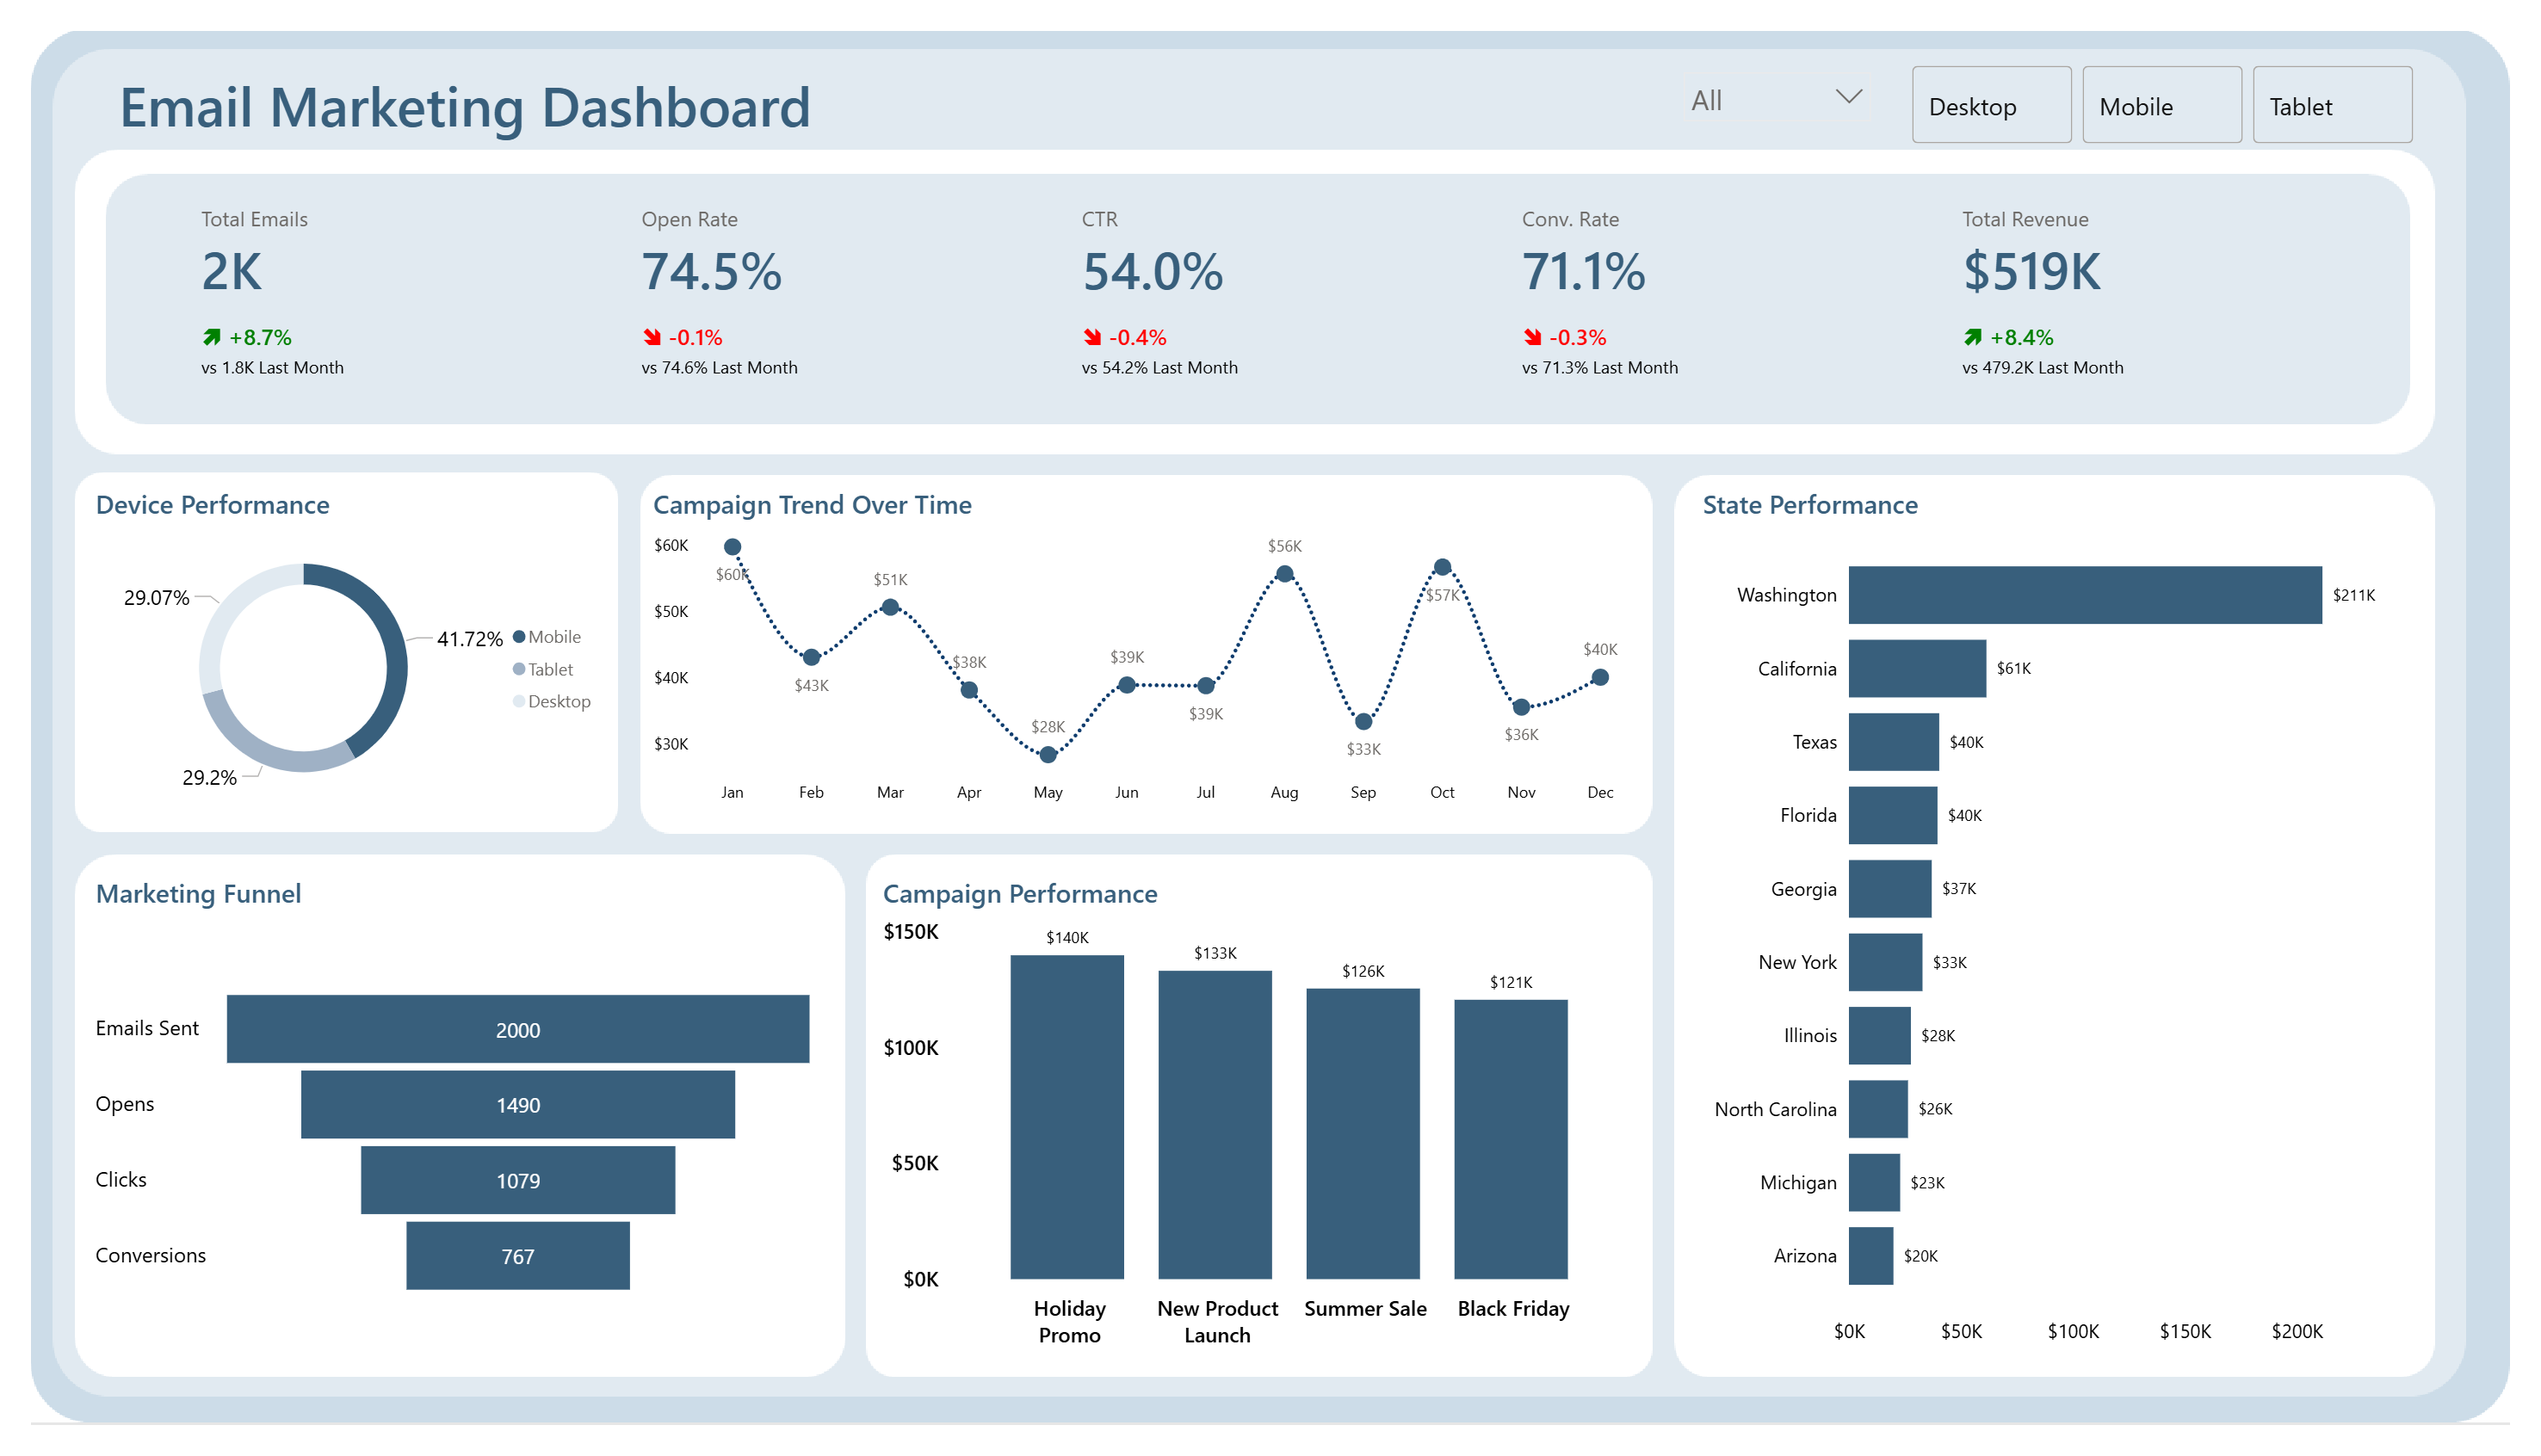

This screenshot's page, from the dashboard's own definition file:
{"tool":"powerbi","page":{"name":"Page 1","canvas":[1920,1080],"ordinal":0},"visuals":[{"type":"cardVisual","fields":{"Data":["_measures.total emails sent","_measures.open rate","_measures.ctr","_measures.conv rate","_measures.total revenue"]},"box":[82.5,117.5,1732.5,180],"z":0},{"type":"slicer","fields":{"Values":["Date.Month Name"]},"box":[1270,21.7,165,53.3],"z":1000},{"type":"funnel","title":"Marketing Funnel","fields":{"Y":["_measures.total emails sent","_measures.total opens","_measures.total clicks","_measures.total conv"]},"box":[45,653.3,568.3,388.3],"z":2000},{"type":"clusteredColumnChart","title":"Campaign Performance","fields":{"Category":["marketing_campaigns.campaign_name"],"Y":["_measures.total revenue"]},"box":[655,653.3,590,375],"z":3000},{"type":"donutChart","title":"Device Performance","fields":{"Category":["marketing_campaigns.device_type"],"Y":["_measures.total conv"]},"box":[45,351.7,403.3,256.7],"z":4000},{"type":"lineChart","title":"Campaign Trend Over Time","fields":{"Y":["_measures.total revenue"],"Category":["Date.Month Name"]},"box":[476.7,351.7,768.3,256.7],"z":5000},{"type":"clusteredBarChart","title":"State Performance","fields":{"Category":["marketing_campaigns.state_"],"Y":["Sum(marketing_campaigns.revenue)"]},"box":[1290,351.7,560,676.7],"z":6000},{"type":"advancedSlicerVisual","fields":{"Values":["marketing_campaigns.device_type"]},"box":[1452,22,398,70],"z":7000},{"type":"textbox","box":[62.5,22.5,847.5,70],"z":8000}]}

Visuals, with their boxes in screenshot pixels (x1, y1, x2, y2), scaled from the page's 1920x1080 canvas onto the 2541x1456 screenshot:
cardVisual - _measures.total emails sent x _measures.open rate: <region>109, 158, 2402, 401</region>
slicer - Date.Month Name: <region>1681, 29, 1899, 102</region>
"Marketing Funnel" funnel: <region>59, 881, 812, 1404</region>
"Campaign Performance" clusteredColumnChart: <region>867, 881, 1648, 1386</region>
"Device Performance" donutChart: <region>59, 474, 593, 820</region>
"Campaign Trend Over Time" lineChart: <region>631, 474, 1648, 820</region>
"State Performance" clusteredBarChart: <region>1707, 474, 2448, 1386</region>
advancedSlicerVisual - marketing_campaigns.device_type: <region>1921, 29, 2448, 124</region>
textbox: <region>83, 30, 1204, 125</region>
